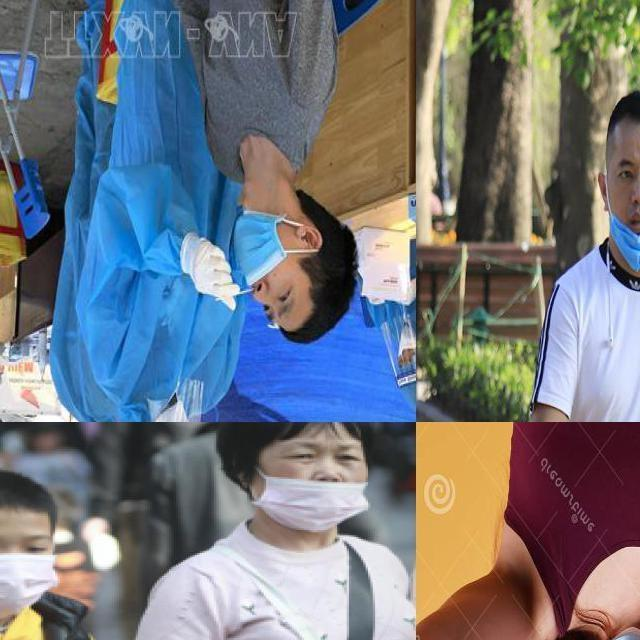apron: (181, 230, 242, 315)
hairnet: (266, 432, 363, 526), (233, 212, 296, 322), (613, 156, 639, 261)
mask: (0, 546, 64, 621)
no_gloves: (279, 199, 364, 348), (212, 421, 366, 472), (0, 467, 66, 544), (600, 91, 640, 188)
